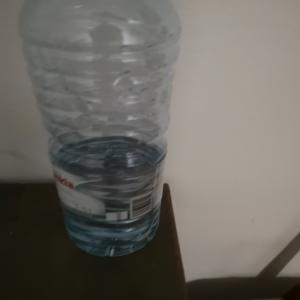Plastic-bottle: (17, 1, 186, 259)
